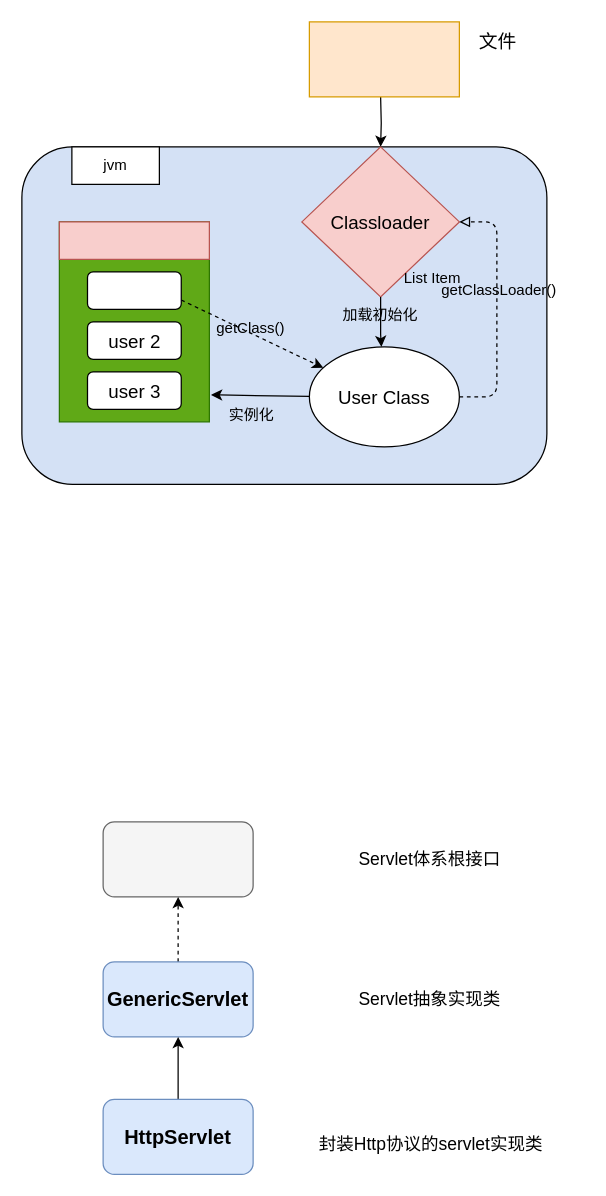
The diagram is 606 pixels wide and 1196 high, and some of its shapes have lost their labels. The centre of each missing label's shape, as x and y in pixels:
"servlet" goes at point (177, 859).
"user 1" goes at point (133, 290).
"User.Class" goes at point (383, 59).
"User实例" goes at point (133, 240).
